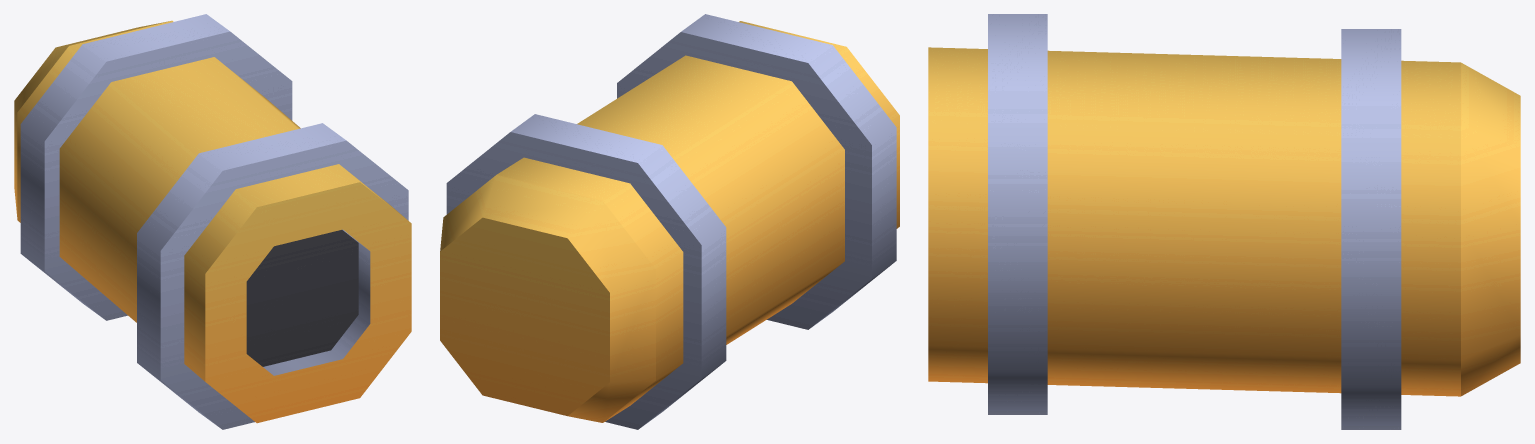
File: kenney-space-station_container-flat-open.glb
3 renders of one model, left to right at view 1: azimuth 30°, elevation 25°; view 2: azimuth 150°, elevation 25°; view 3: azimuth 270°, elevation 25°, orthographic. The views are drawn at different scales.
Parts seen in each view (by area): view 1: container-flat-open; view 2: container-flat-open; view 3: container-flat-open.
Part boxes in pixels (x1,y1,x2,y2): container-flat-open: (14, 14, 411, 429); container-flat-open: (440, 14, 899, 429); container-flat-open: (928, 14, 1520, 429).
Bounding box in the file's own units: 0.6595 × 0.6 × 0.9909.
1 material, 1 textured.
